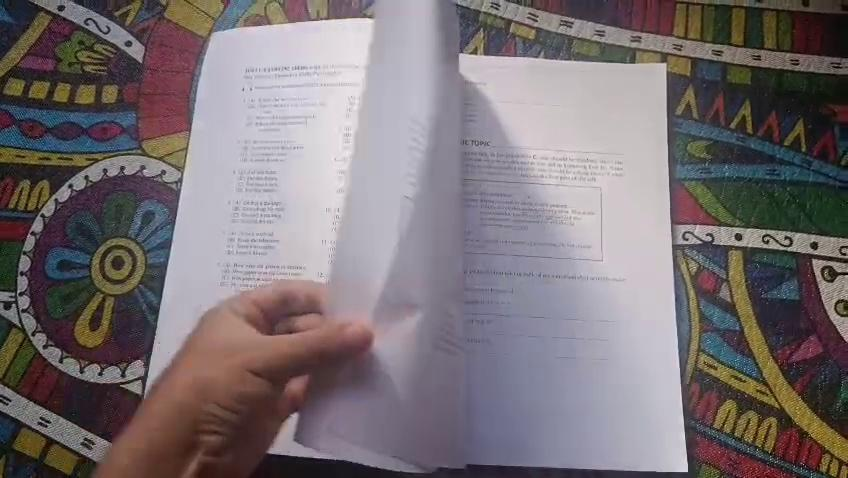Kertas: (380, 65, 669, 466)
